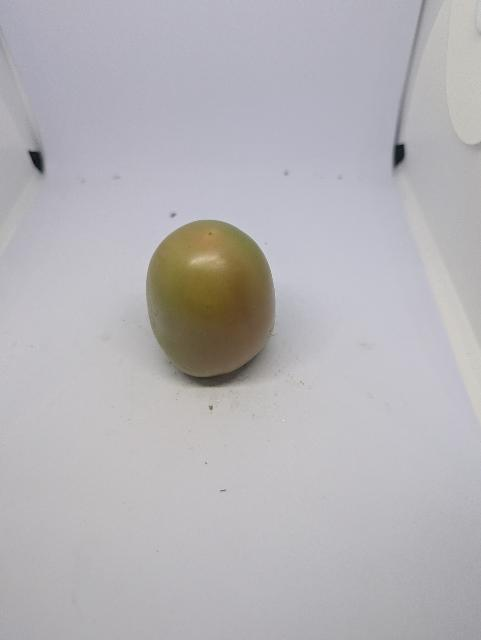breaker: (140, 221, 284, 380)
